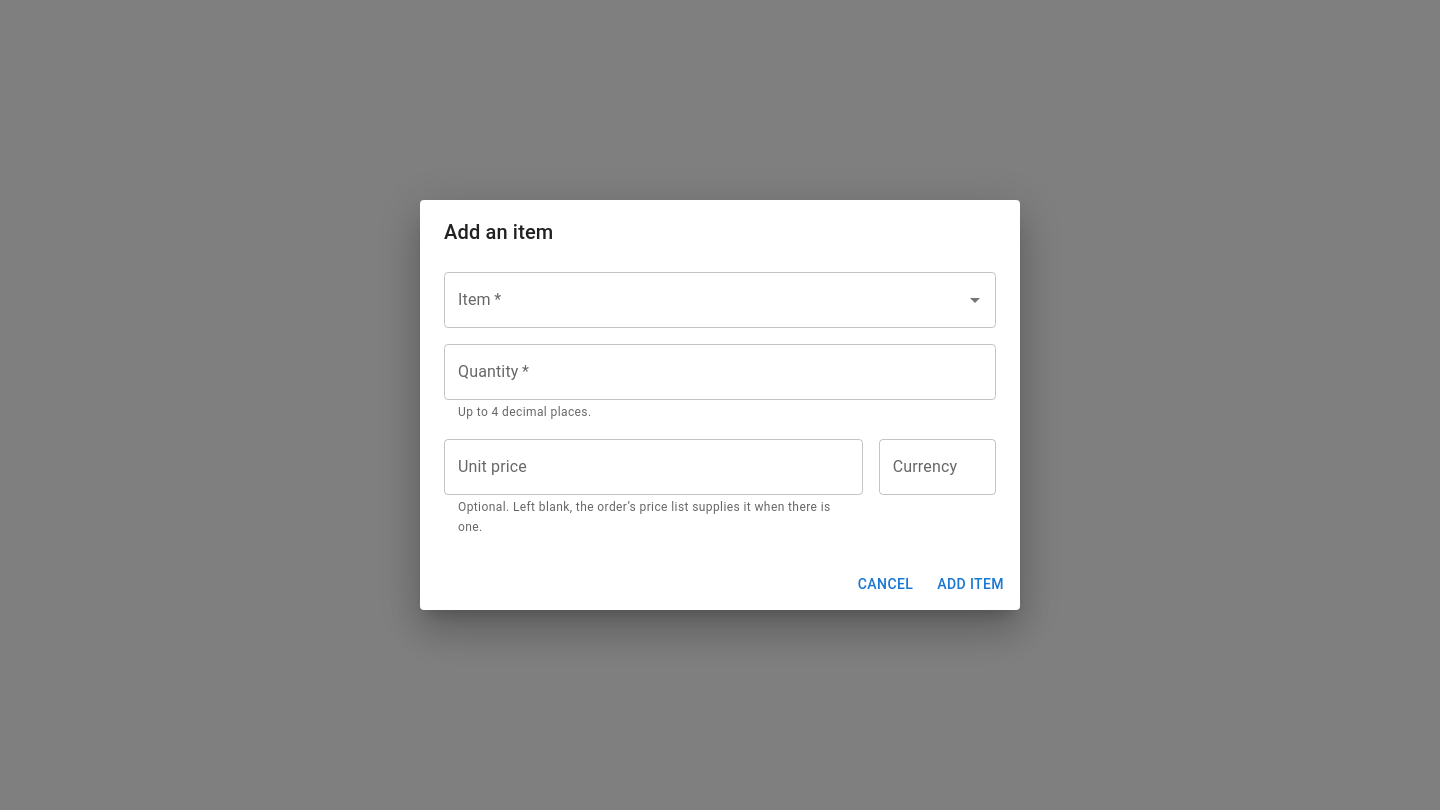
it: AddOrderLineDialog › leaves out items already on the order
Click the dropdown labelled "Item" at coordinates (705, 300), box x1=453 y1=281 x2=957 y2=319
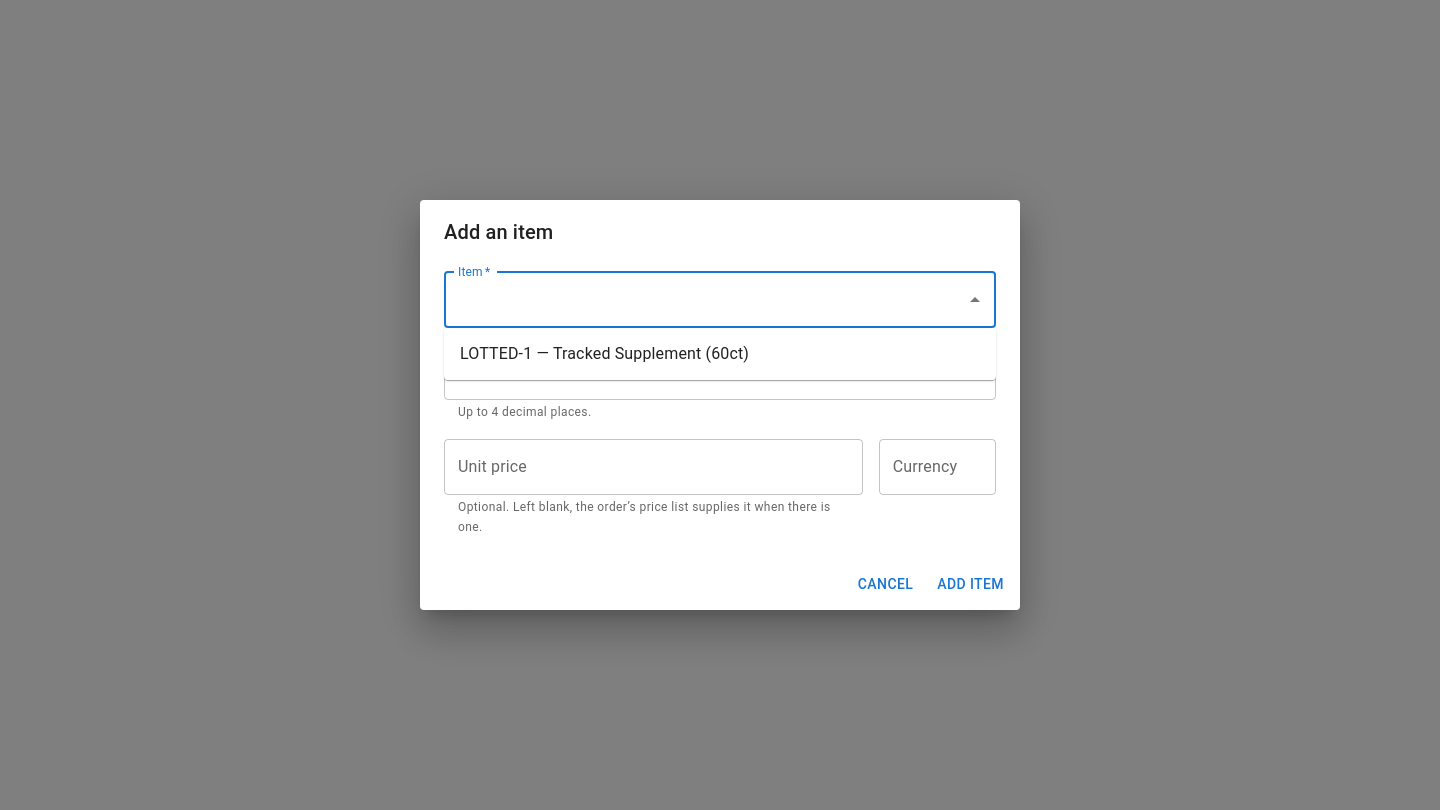
Expected: the option "LOTTED-1 — Tracked Supplement (60ct)" is shown, x1=460 y1=344 x2=749 y2=363
